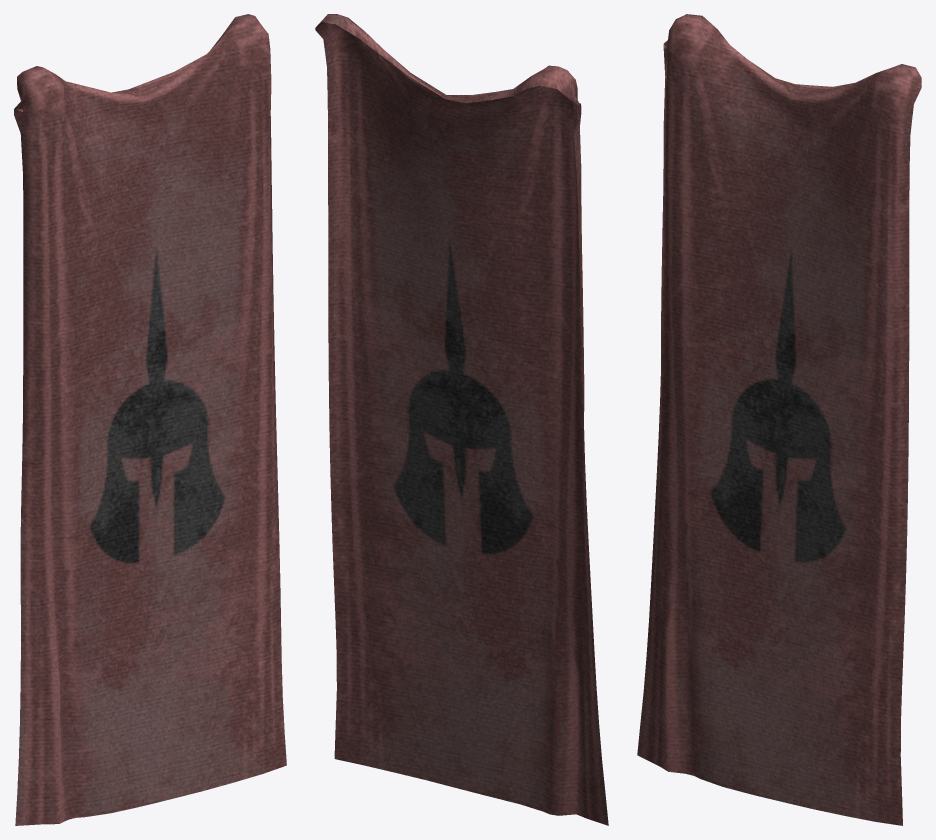
The model's file is arena_banner01.FBX.
3 views of the same model, side by side, from view 1: azimuth 30°, elevation 25°; view 2: azimuth 150°, elevation 25°; view 3: azimuth 330°, elevation 25° (orthographic). The views are drawn at different scales.
Parts seen in each view (by area): view 1: arena_banner01; view 2: arena_banner01; view 3: arena_banner01.
Boxes of the visible parts, left/top/right/bottom form: arena_banner01: left=14, top=14, right=286, bottom=825; arena_banner01: left=315, top=14, right=608, bottom=825; arena_banner01: left=637, top=14, right=921, bottom=825.
Size of the model in its own units: 1.22 by 0.2558 by 3.22.
Materials: 1 (1 with a texture image).
